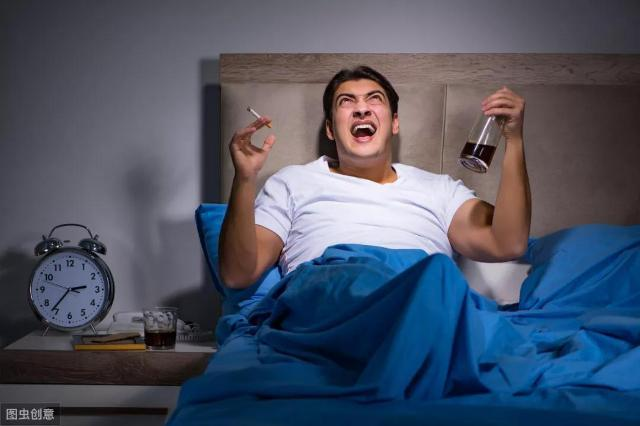SafeDriving: (334, 93, 356, 109), (366, 92, 386, 106)
Smoking: (246, 105, 274, 129)
